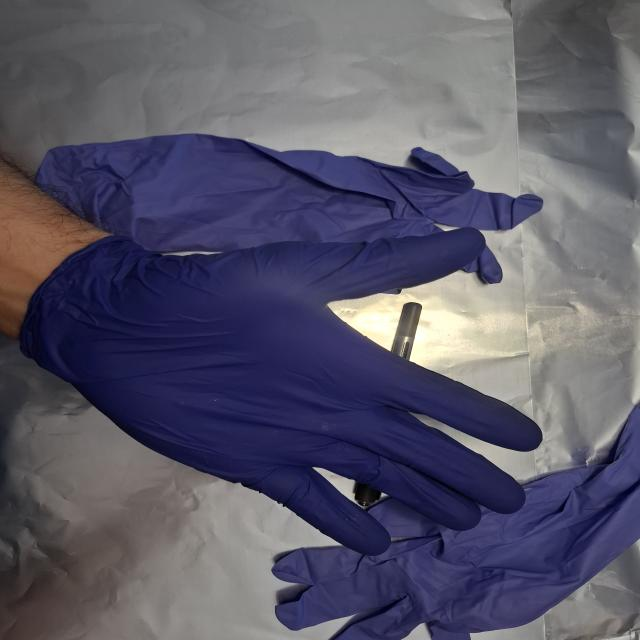glove_on: (18, 224, 546, 558)
